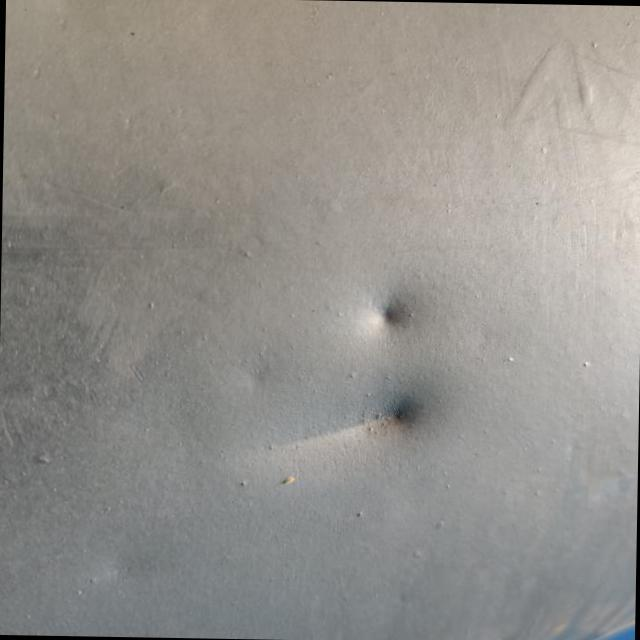Dent: (226, 372, 452, 487), (330, 256, 440, 369)
